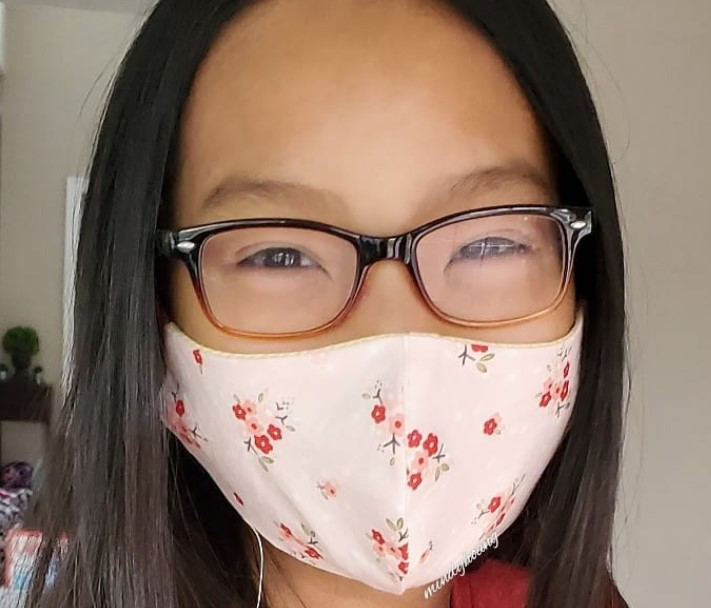face_with_mask: (80, 0, 629, 599)
